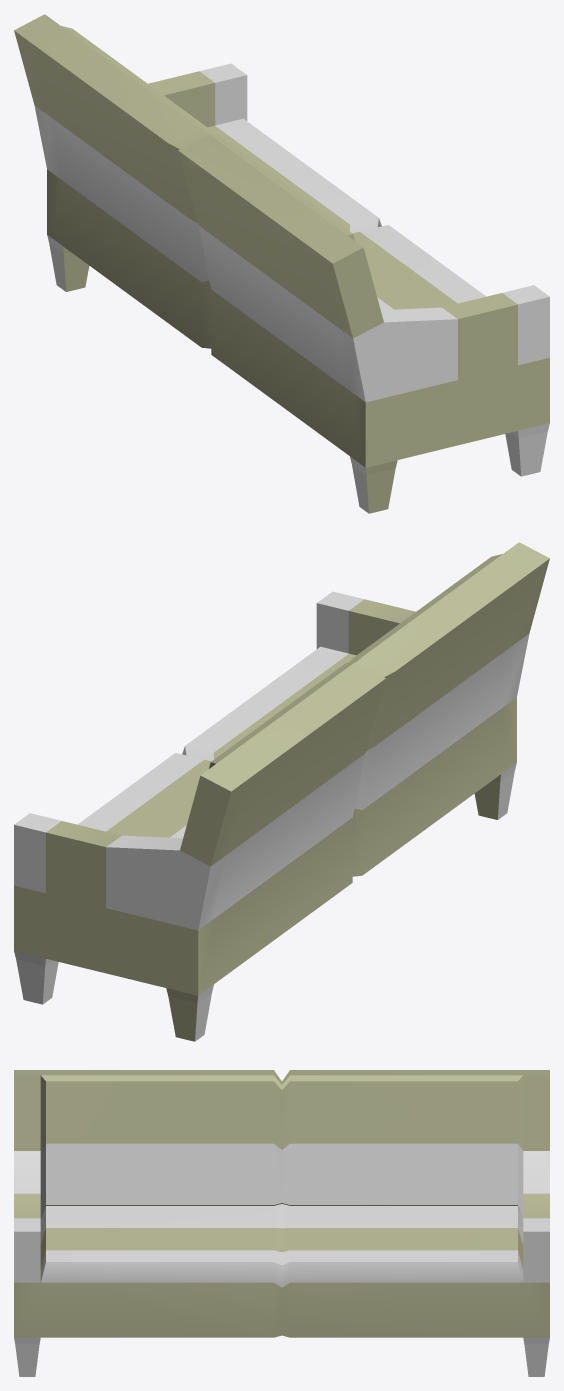
File: couch.fbx
The picture shows the model from 3 angles, top to bottom: view 1: azimuth 30°, elevation 25°; view 2: azimuth 150°, elevation 25°; view 3: azimuth 270°, elevation 25°; orthographic projection. The views are drawn at different scales.
Visible parts, largest first — view 1: pCube1; view 2: pCube1; view 3: pCube1.
Boxes of the visible parts, x1=… form: pCube1: x1=14, y1=14, x2=549, y2=513; pCube1: x1=14, y1=542, x2=549, y2=1041; pCube1: x1=14, y1=1070, x2=549, y2=1376.
Bounding box in the file's own units: 1.18 × 1.4 × 3.
